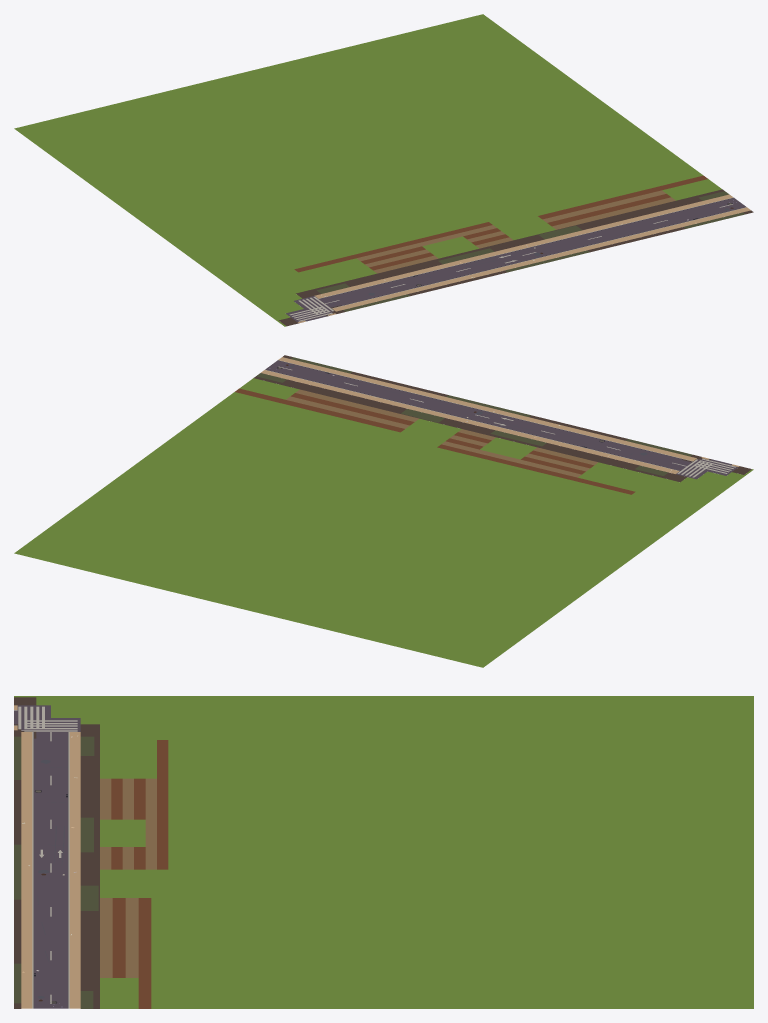
Rendered from cure-23-1.glb.
The picture shows the model from 3 angles, top to bottom: view 1: azimuth 30°, elevation 25°; view 2: azimuth 150°, elevation 25°; view 3: azimuth 270°, elevation 25°; orthographic projection. The views are drawn at different scales.
Visible parts, largest first — view 1: cure-23-1; view 2: cure-23-1; view 3: cure-23-1.
Part boxes in pixels (x1,y1,x2,y2): cure-23-1: (14,14,753,326); cure-23-1: (14,355,753,667); cure-23-1: (14,696,753,1008).
Size of the model in its own units: 100 by 0.017 by 100.
